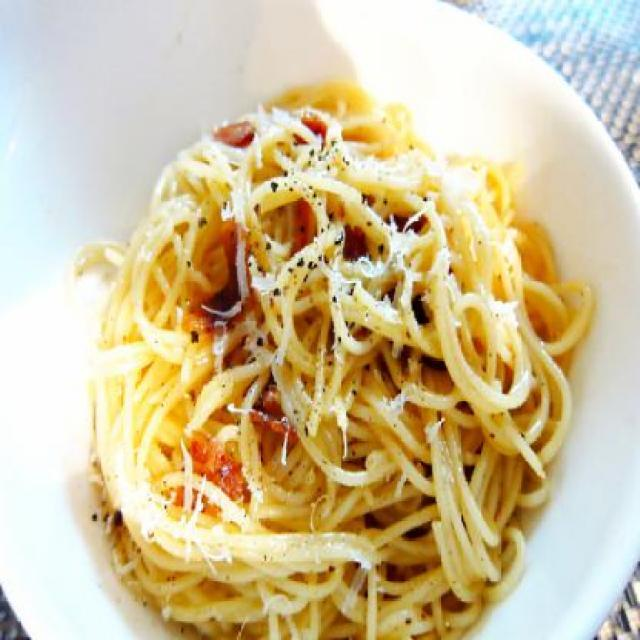Pasta with carbonara sauce: (47, 63, 638, 637)
